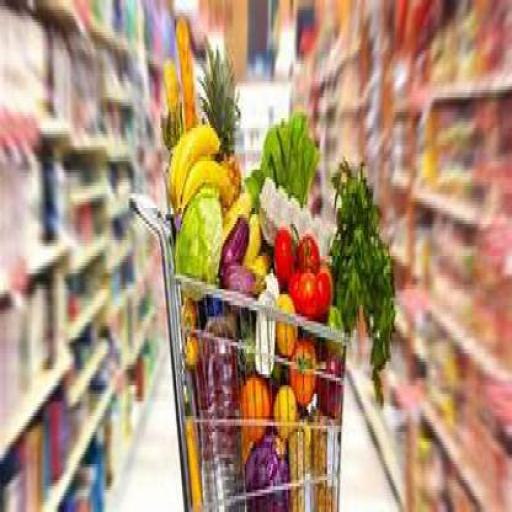shopping_cart: (128, 197, 364, 512)
